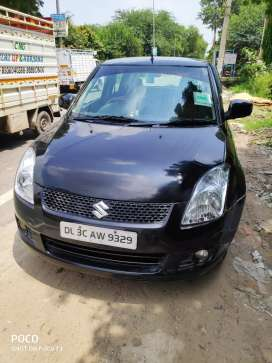license_plate: (60, 222, 138, 250)
